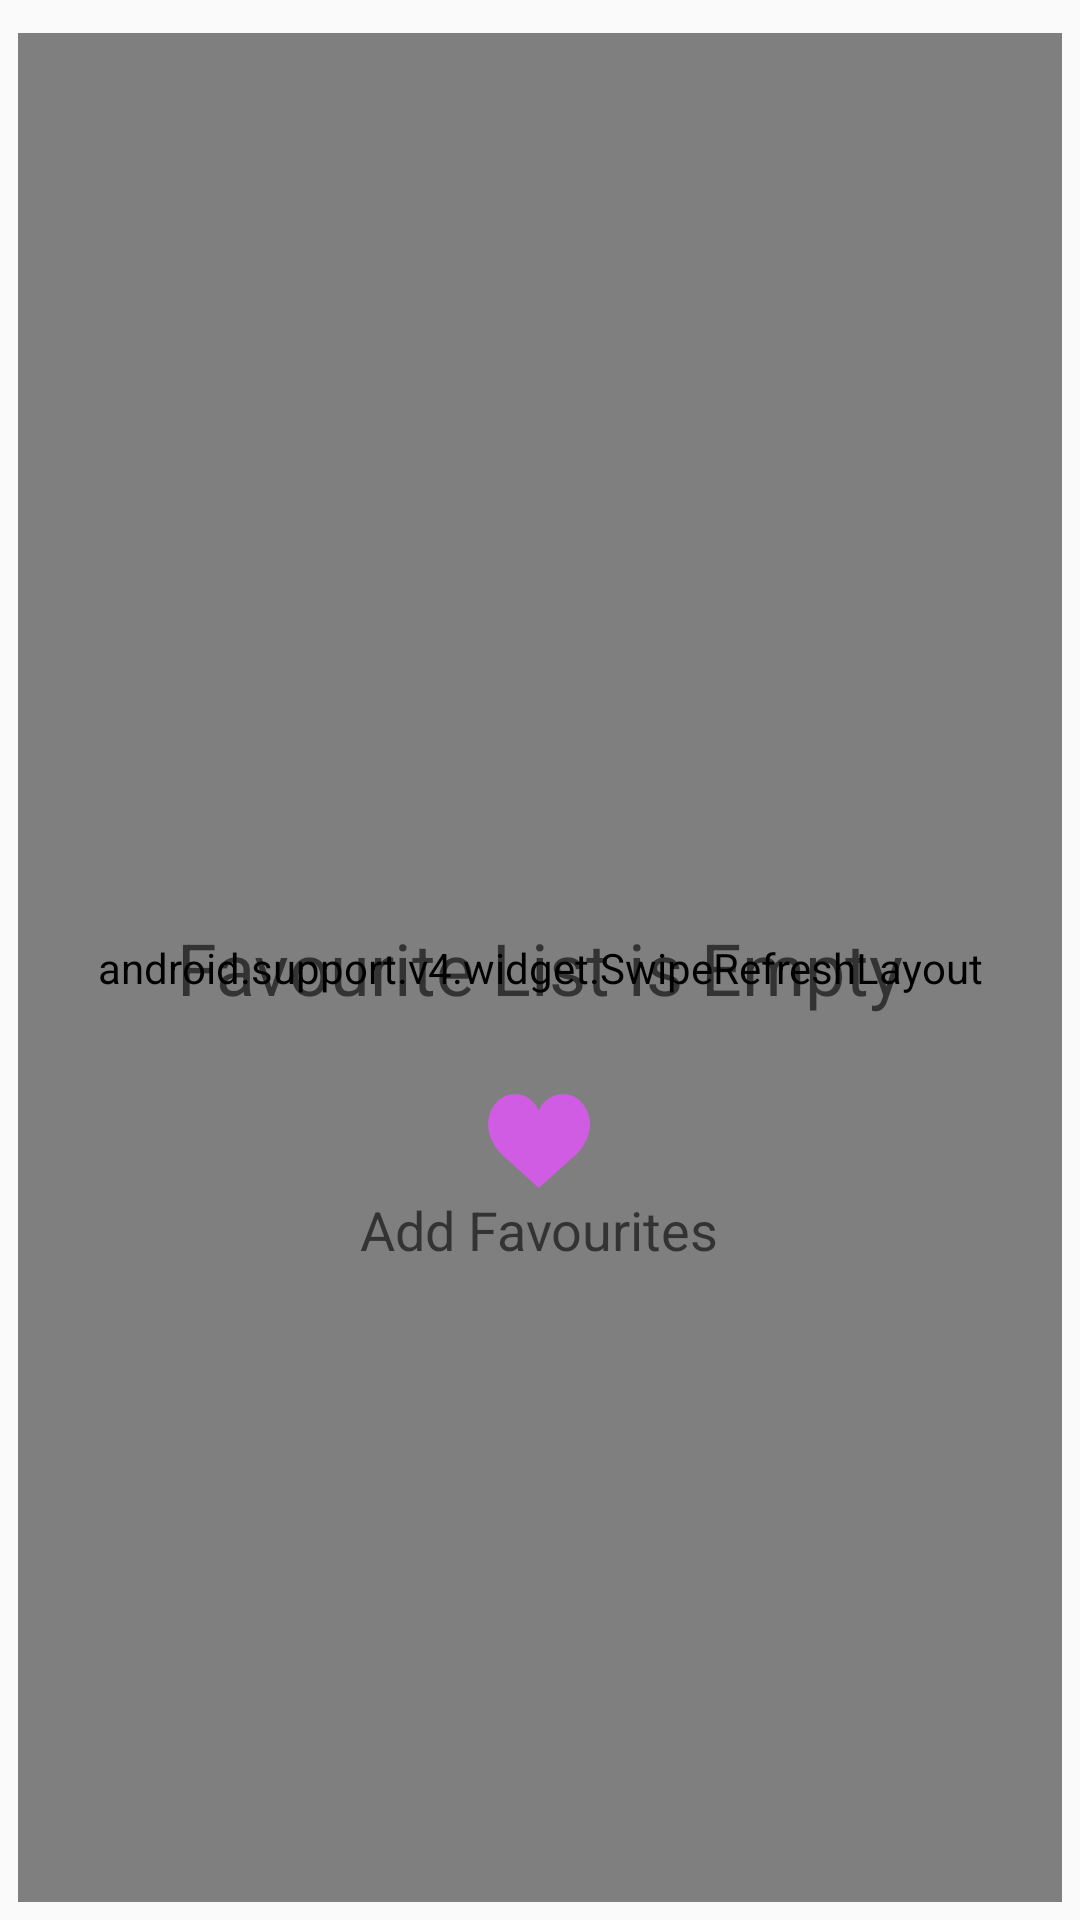

Screen size 1080x1920. Icon name, then its center in pixels as point (x, y):
like: point (539, 1141)
